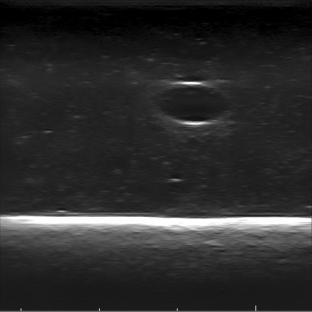vessel: (155, 81, 235, 128)
